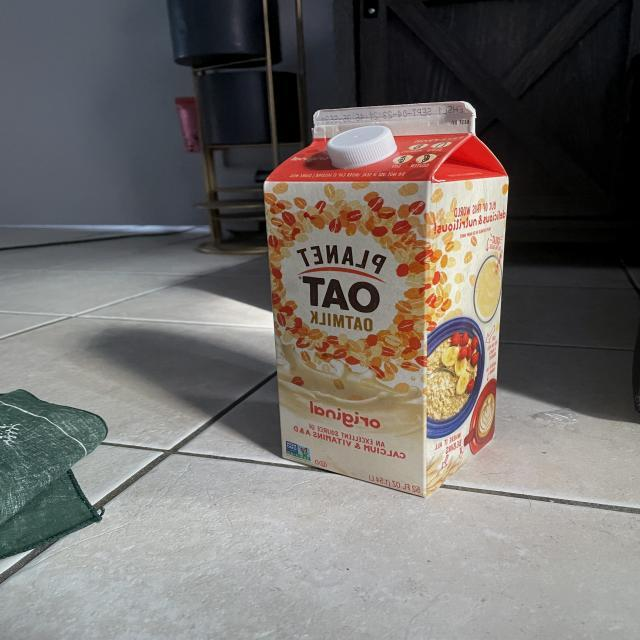Planet Oat Original: (258, 99, 510, 498)
